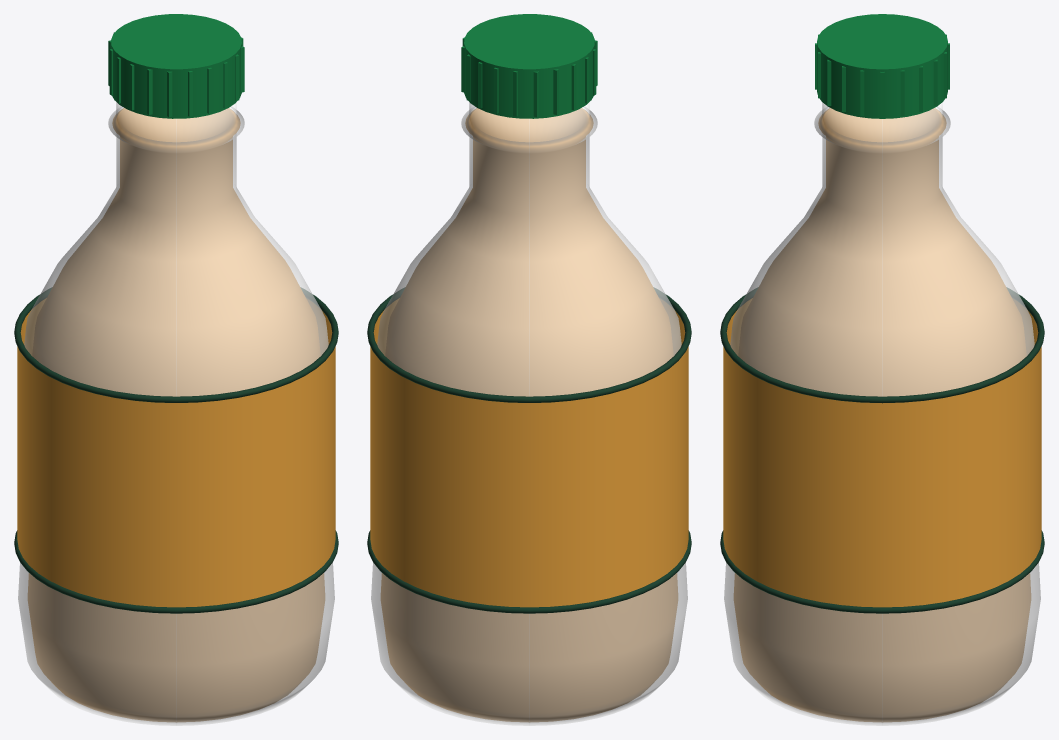
File: mango-bottle.glb
3 renders of one model, left to right at view 1: azimuth 30°, elevation 25°; view 2: azimuth 150°, elevation 25°; view 3: azimuth 270°, elevation 25°, orthographic.
Parts seen in each view (by area): view 1: object 1, object 2, ProductLabel, object 6, object 4, object 5; view 2: object 1, object 2, ProductLabel, object 6, object 4, object 5; view 3: object 1, object 2, ProductLabel, object 6, object 4, object 5.
Boxes of the visible parts, box(x1,y1,x2,y2) form: object 1: box(18, 102, 334, 725); object 2: box(28, 108, 324, 722); ProductLabel: box(17, 298, 335, 607); object 6: box(111, 14, 241, 118); object 4: box(14, 288, 338, 402); object 5: box(14, 530, 338, 613); object 1: box(371, 102, 687, 725); object 2: box(381, 108, 677, 722); ProductLabel: box(370, 298, 688, 607); object 6: box(464, 14, 594, 118); object 4: box(367, 288, 691, 402); object 5: box(367, 530, 691, 613); object 1: box(724, 102, 1040, 725); object 2: box(734, 108, 1030, 722); ProductLabel: box(723, 298, 1041, 607); object 6: box(817, 14, 947, 118); object 4: box(720, 288, 1044, 403); object 5: box(720, 530, 1044, 613).
Bounding box in the file's own units: 1.19 × 2.55 × 1.19.
